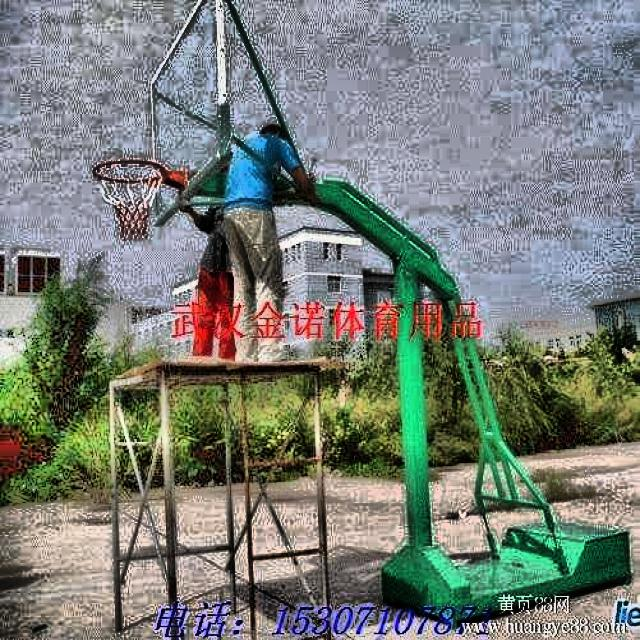rim: (94, 161, 163, 240)
